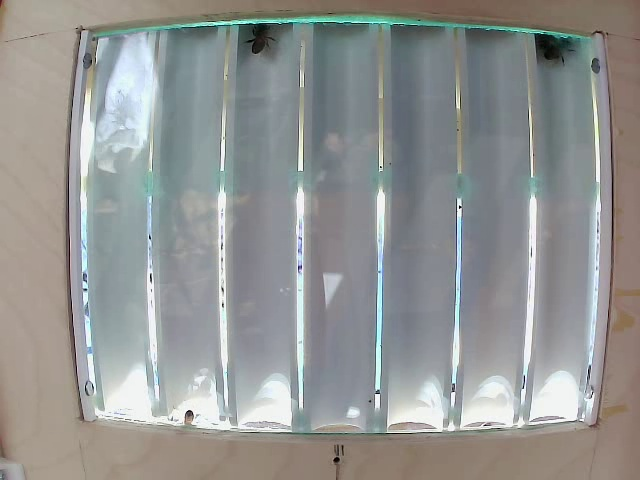bee: (243, 15, 295, 63), (522, 26, 565, 71)
